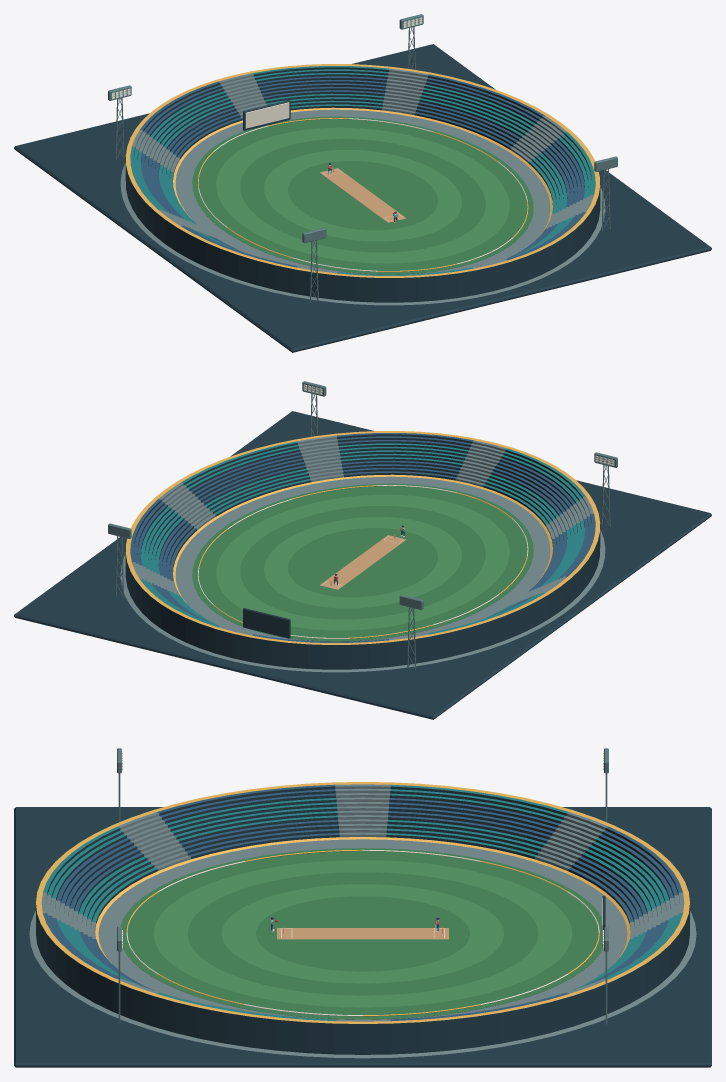
File: cricket_stadium.glb
3 renders of one model, top to bottom at view 1: azimuth 30°, elevation 25°; view 2: azimuth 150°, elevation 25°; view 3: azimuth 270°, elevation 25°, orthographic. The views are drawn at different scales.
Visible parts, largest first — view 1: Turf_Mowing_Bands, Ground_Plinth, Stands_Ring, Upper_Fascia, Perimeter_Concourse, Turf_Centre, Pitch, Boundary_Rope, Sightscreen, Floodlight_2_Frame, Floodlight_1_Frame, Floodlight_3_Frame; view 2: Turf_Mowing_Bands, Stands_Ring, Ground_Plinth, Upper_Fascia, Perimeter_Concourse, Turf_Centre, Pitch, Boundary_Rope, Sightscreen, Floodlight_4_Frame, Floodlight_3_Frame, Floodlight_1_Frame; view 3: Turf_Mowing_Bands, Stands_Ring, Ground_Plinth, Upper_Fascia, Perimeter_Concourse, Turf_Centre, Pitch, Boundary_Rope.
Boxes of the visible parts, x1=… form: Turf_Mowing_Bands: x1=192, y1=116, x2=533, y2=274; Ground_Plinth: x1=14, y1=44, x2=711, y2=352; Stands_Ring: x1=130, y1=66, x2=595, y2=275; Upper_Fascia: x1=120, y1=64, x2=605, y2=305; Perimeter_Concourse: x1=173, y1=107, x2=552, y2=274; Turf_Centre: x1=311, y1=171, x2=414, y2=219; Pitch: x1=319, y1=168, x2=406, y2=222; Boundary_Rope: x1=197, y1=118, x2=528, y2=271; Sightscreen: x1=243, y1=100, x2=290, y2=130; Floodlight_2_Frame: x1=594, y1=156, x2=617, y2=231; Floodlight_1_Frame: x1=302, y1=227, x2=326, y2=302; Floodlight_3_Frame: x1=108, y1=85, x2=131, y2=160; Turf_Mowing_Bands: x1=192, y1=483, x2=533, y2=641; Stands_Ring: x1=130, y1=433, x2=595, y2=642; Ground_Plinth: x1=14, y1=411, x2=711, y2=719; Upper_Fascia: x1=120, y1=431, x2=605, y2=672; Perimeter_Concourse: x1=173, y1=474, x2=552, y2=641; Turf_Centre: x1=311, y1=538, x2=414, y2=586; Pitch: x1=319, y1=535, x2=406, y2=589; Boundary_Rope: x1=197, y1=485, x2=528, y2=638; Sightscreen: x1=243, y1=608, x2=290, y2=638; Floodlight_4_Frame: x1=108, y1=523, x2=131, y2=598; Floodlight_3_Frame: x1=399, y1=594, x2=423, y2=669; Floodlight_1_Frame: x1=594, y1=452, x2=617, y2=527; Turf_Mowing_Bands: x1=120, y1=848, x2=602, y2=1019; Stands_Ring: x1=41, y1=784, x2=684, y2=1021; Ground_Plinth: x1=14, y1=807, x2=711, y2=1067; Upper_Fascia: x1=29, y1=782, x2=696, y2=1058; Perimeter_Concourse: x1=95, y1=837, x2=630, y2=1019; Turf_Centre: x1=290, y1=907, x2=435, y2=959; Pitch: x1=277, y1=928, x2=448, y2=939; Boundary_Rope: x1=126, y1=849, x2=599, y2=1016.
Bounding box in the file's own units: 75 × 13.05 × 86.
